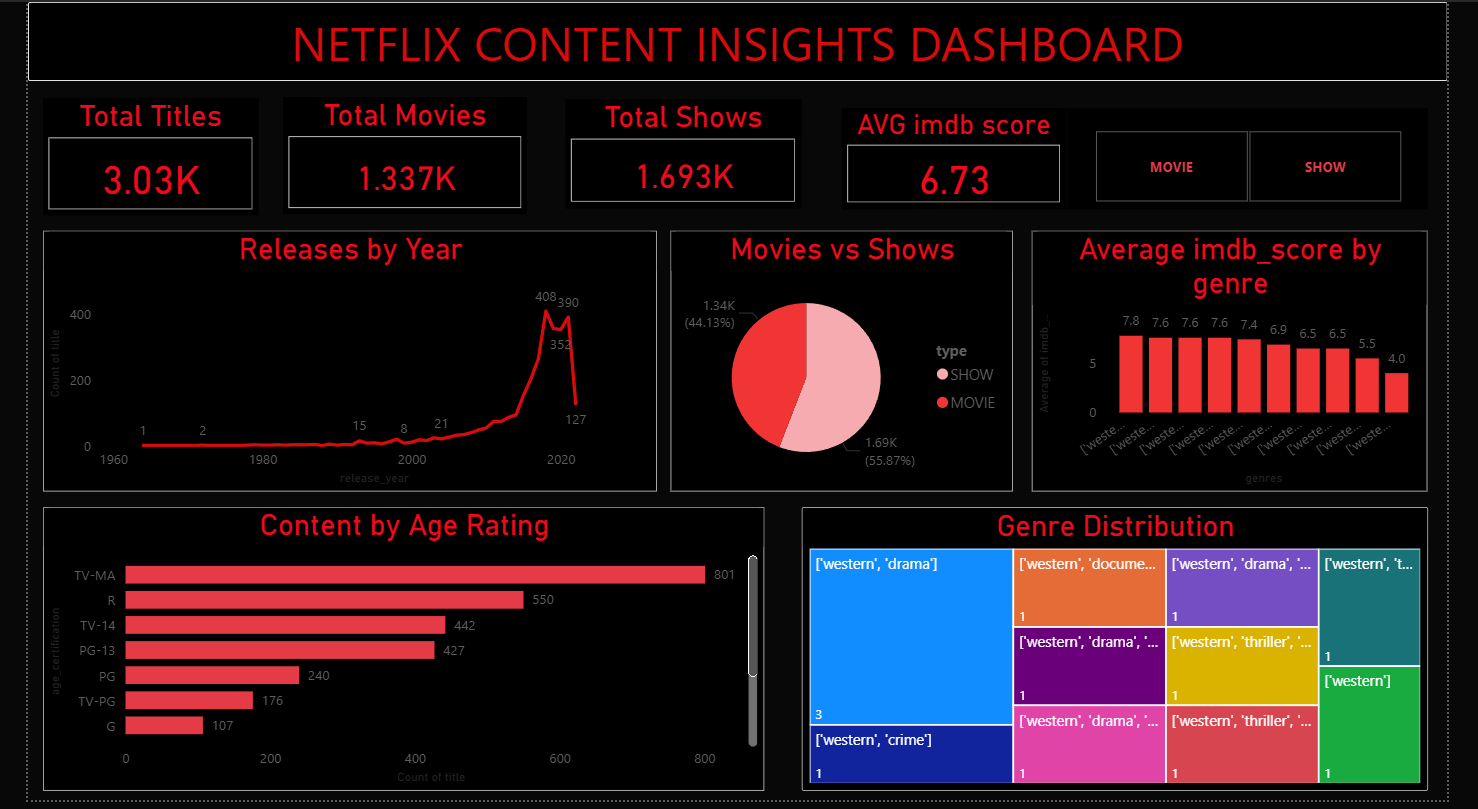

This screenshot's page, from the dashboard's own definition file:
{"tool":"powerbi","page":{"name":"Overview","canvas":[1280,720],"ordinal":0},"visuals":[{"type":"cardVisual","title":"Total Titles","fields":{"Data":["CountNonNull(netflix (copy).title)"]},"box":[13.7,87.1,194.1,105.7],"z":0},{"type":"cardVisual","title":"Total Movies","fields":{"Data":["CountNonNull(netflix (copy).title)"]},"box":[230.1,85.8,220.2,105.7],"z":1000},{"type":"cardVisual","title":"Total Shows","fields":{"Data":["CountNonNull(netflix (copy).title)"]},"box":[485.1,88.3,212.7,98.3],"z":2000},{"type":"cardVisual","title":"AVG imdb score","fields":{"Data":["Avg(netflix (copy).imdb_score)"]},"box":[733.9,95.8,202.8,90.8],"z":3000},{"type":"textbox","box":[0,0,1280,70.9],"z":4000},{"type":"lineChart","title":"Releases by Year","fields":{"Category":["netflix (copy).release_year"],"Y":["CountNonNull(netflix (copy).title)"]},"box":[13.7,206.5,553.6,235.1],"z":5000},{"type":"pieChart","title":"Movies vs Shows","fields":{"Category":["netflix (copy).type"],"Y":["CountNonNull(netflix (copy).title)"]},"box":[579.7,206.5,308.5,235.1],"z":6000},{"type":"clusteredBarChart","title":"Content by Age Rating","fields":{"Category":["netflix (copy).age_certification"],"Y":["CountNonNull(netflix (copy).title)"]},"box":[13.7,455.3,650.6,256.3],"z":7000},{"type":"treemap","title":"Genre Distribution","fields":{"Group":["netflix (copy).genres"],"Values":["CountNonNull(netflix (copy).title)"]},"box":[697.9,455.3,564.8,256.3],"z":8000},{"type":"clusteredColumnChart","title":"Average imdb_score by genre","fields":{"Category":["netflix (copy).genres"],"Y":["Avg(netflix (copy).imdb_score)"]},"box":[905.6,206.5,357,235.1],"z":9000},{"type":"slicer","fields":{"Values":["netflix (copy).type"]},"box":[936.7,95.8,325.9,90.8],"z":10000}]}

Visuals, with their boxes in screenshot pixels (x1, y1, x2, y2), scaled from the page's 1280x720 canvas onto the 1478x809 screenshot:
"Total Titles" cardVisual: [16, 98, 240, 217]
"Total Movies" cardVisual: [266, 96, 520, 215]
"Total Shows" cardVisual: [560, 99, 806, 210]
"AVG imdb score" cardVisual: [847, 108, 1082, 210]
textbox: [0, 0, 1477, 80]
"Releases by Year" lineChart: [16, 232, 655, 496]
"Movies vs Shows" pieChart: [669, 232, 1026, 496]
"Content by Age Rating" clusteredBarChart: [16, 512, 767, 800]
"Genre Distribution" treemap: [806, 512, 1458, 800]
"Average imdb_score by genre" clusteredColumnChart: [1046, 232, 1458, 496]
slicer - netflix (copy).type: [1082, 108, 1458, 210]
